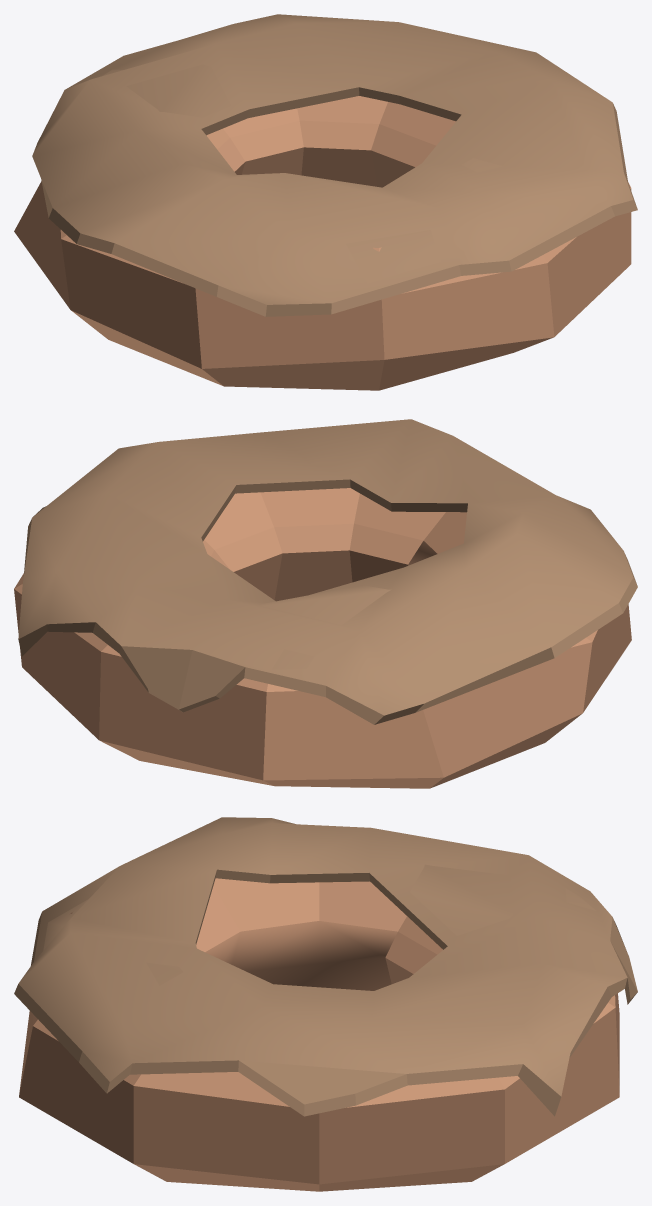
File: power up 1.fbx
3 views of the same model, one above another, from view 1: azimuth 30°, elevation 25°; view 2: azimuth 150°, elevation 25°; view 3: azimuth 270°, elevation 25° (orthographic). The views are drawn at different scales.
Parts seen in each view (by area): view 1: pTorus4; view 2: pTorus4; view 3: pTorus4.
Part boxes in pixels (bbox=[...]): pTorus4: bbox=[14, 14, 637, 390]; pTorus4: bbox=[14, 419, 637, 788]; pTorus4: bbox=[14, 817, 637, 1191].
Bounding box in the file's own units: 0.4791 × 0.1533 × 0.4595.
